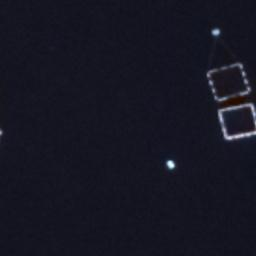square_solid: (204, 60, 253, 104), (215, 100, 256, 142)
